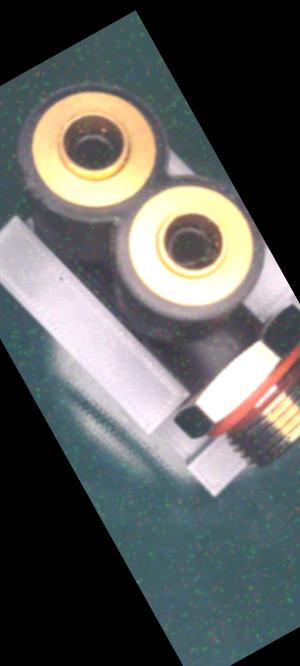off-centered: (150, 205, 229, 283)
white mark: (214, 325, 241, 358)
